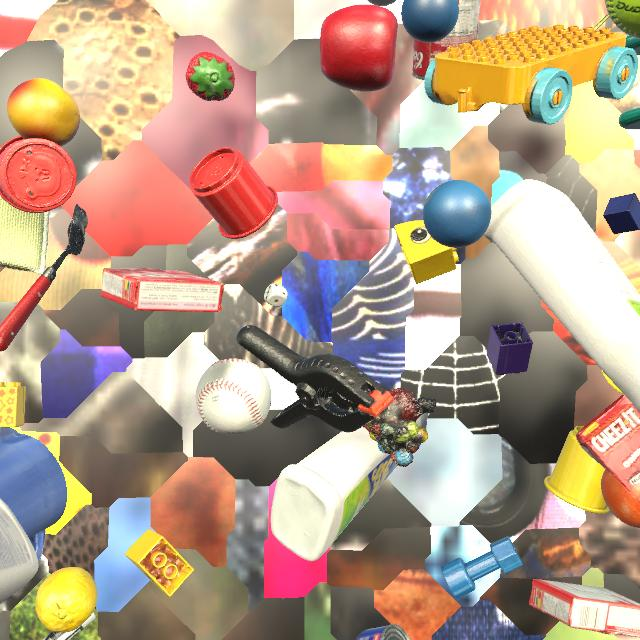ycb_003_cracker_box: (576, 394, 640, 503)
ycb_005_tomato_soup_can: (412, 0, 481, 80)
ycb_007_tuna_fish_can: (356, 624, 410, 640)
ycb_009_gelatin_box: (529, 579, 640, 637), (101, 268, 225, 312)
ycb_012_strawberry: (186, 52, 235, 101)
ycb_013_apple: (320, 4, 398, 92)
ycb_014_lemon: (36, 567, 97, 632)
ycb_015_peach: (7, 78, 80, 146)
ycb_017_orange: (601, 469, 640, 528)
